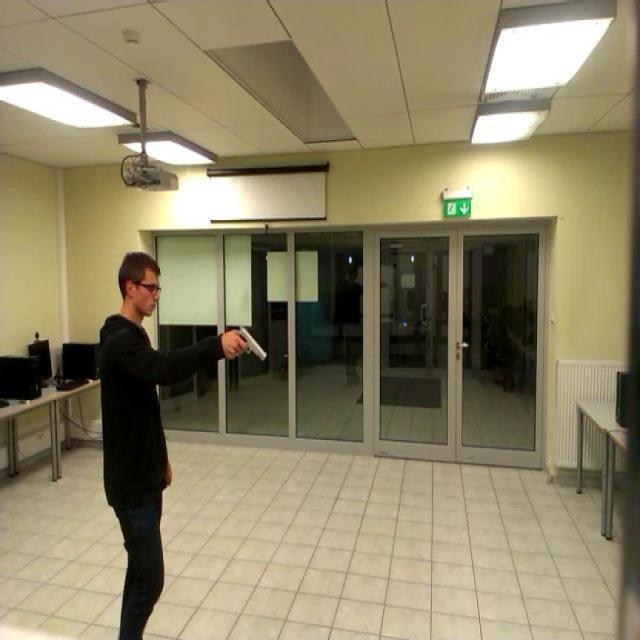pistol: (230, 324, 266, 360)
